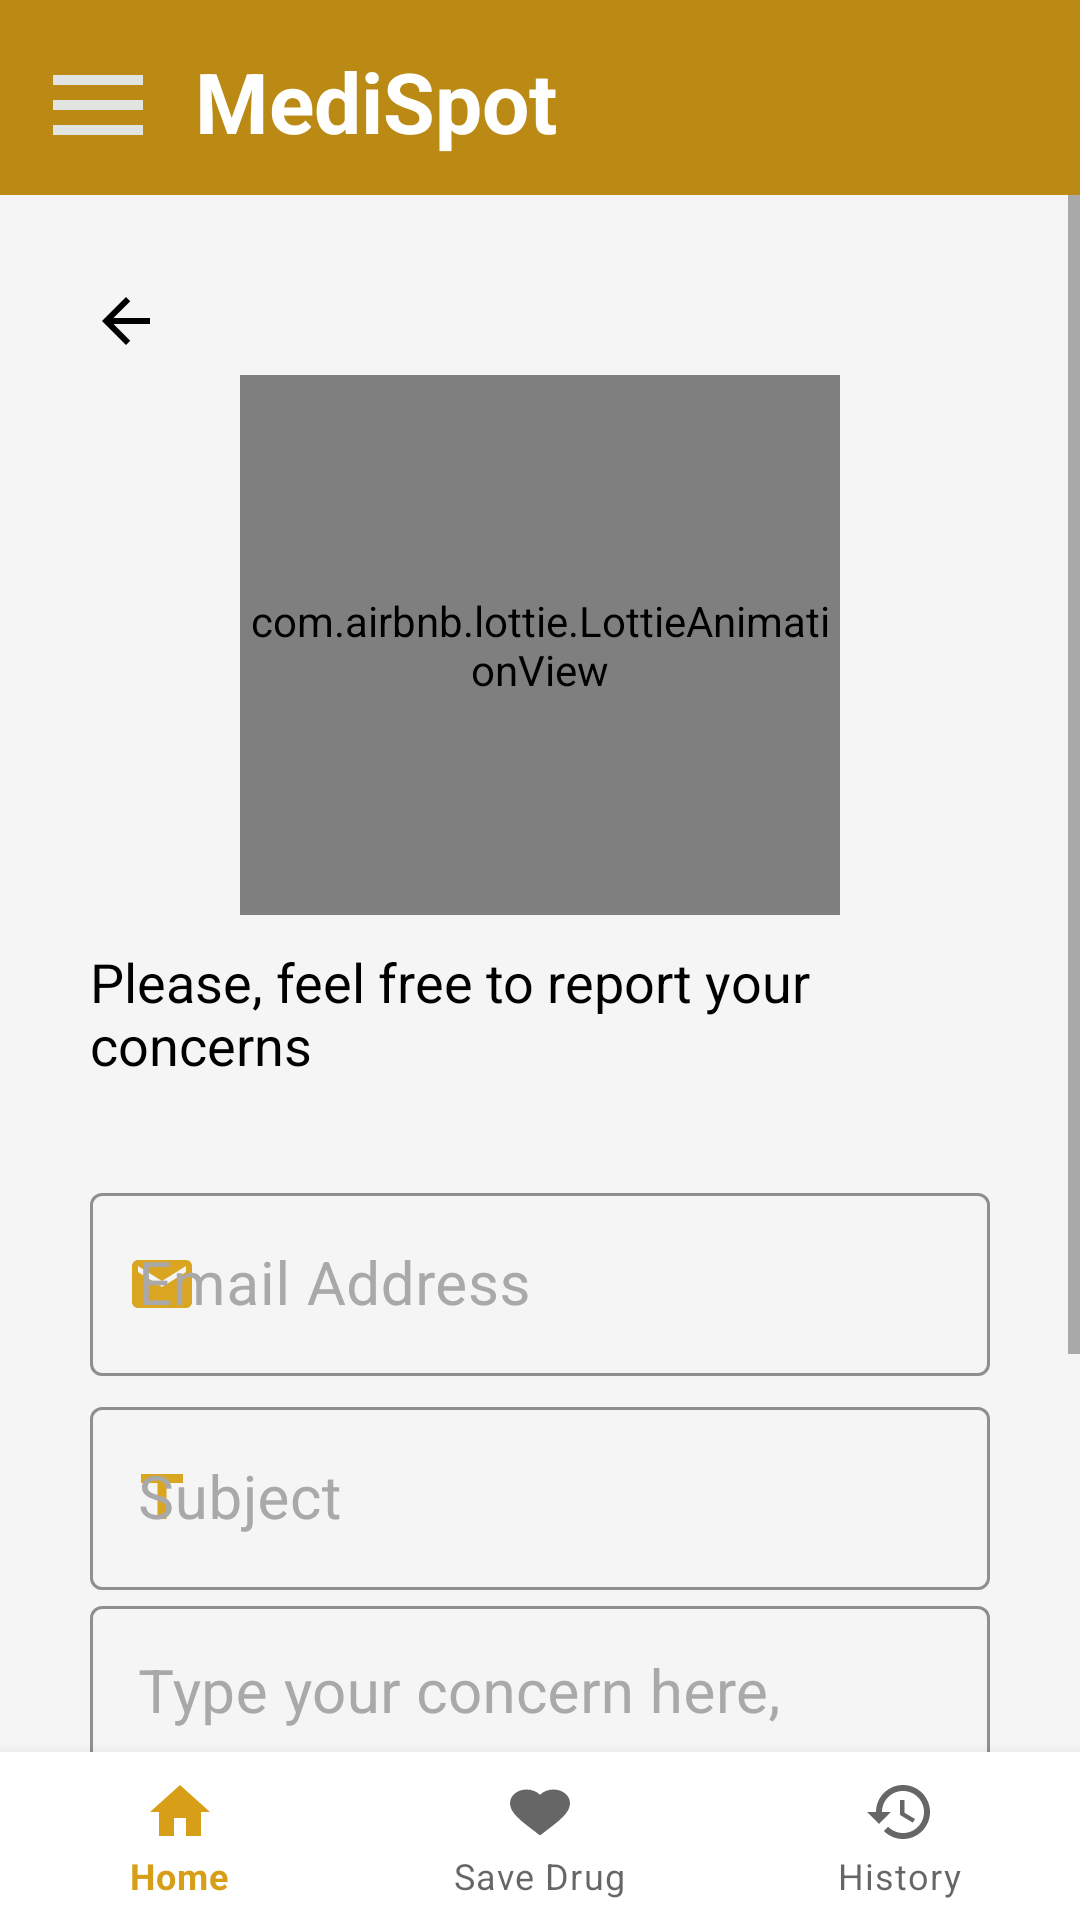

Screen size 1080px×1920px. Icon name, then its box in pixels as (x1, y1, x2, y2):
back: (102, 297, 150, 345)
menu: (53, 75, 143, 135)
